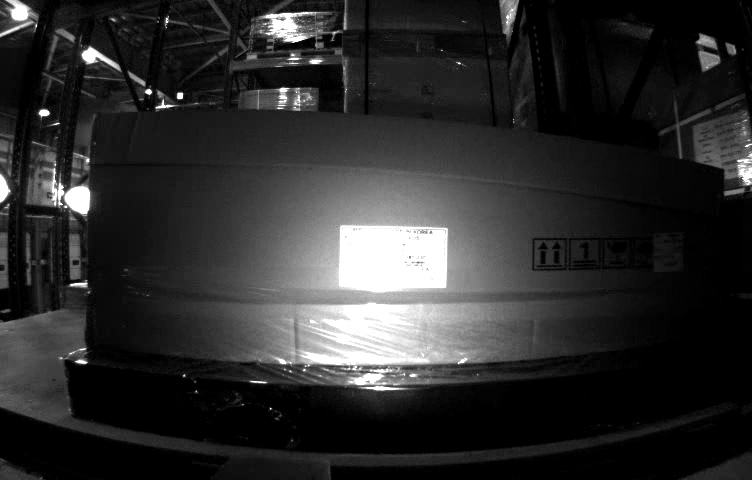True Barcode: (651, 231, 684, 271)
